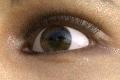eye: (40, 26, 70, 51)
